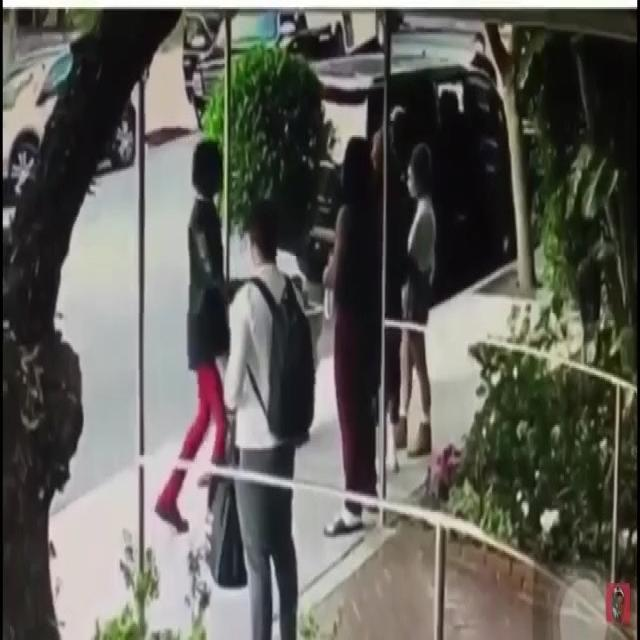fight: (338, 98, 440, 334)
